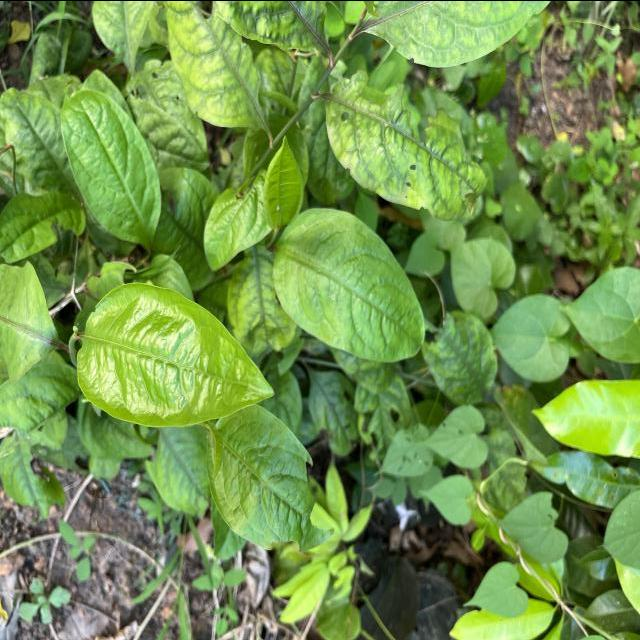Plumbago indica: (75, 278, 278, 432), (271, 203, 428, 364), (205, 406, 336, 552), (58, 86, 164, 247)
